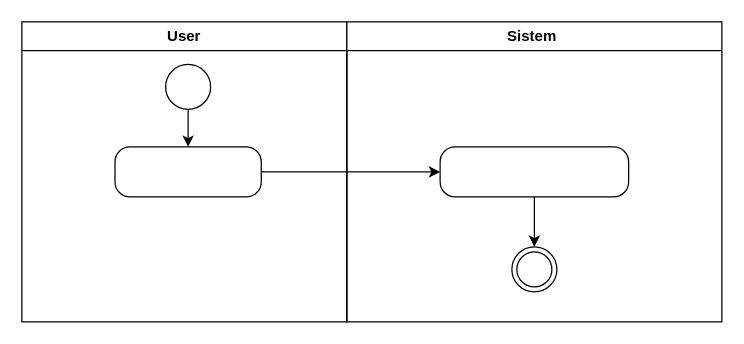
The diagram is 744 pixels wide and 344 high, and some of its shapes have lost their labels. The box of each missing label's shape, as (x1, y1, x2, y2) in pixels:
Memilih Menu Akun: (114, 146, 261, 197)
Menampilkan Halaman Detail Akun Pengguna: (439, 146, 629, 197)
